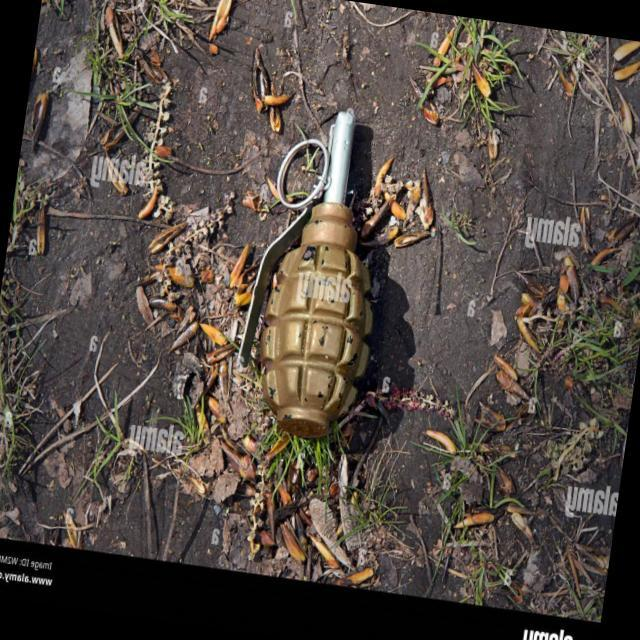grenade: (220, 100, 406, 443)
